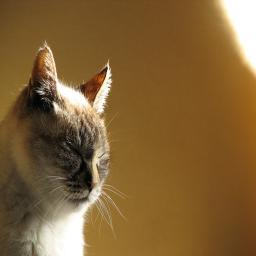catnose: (86, 179, 98, 193)
